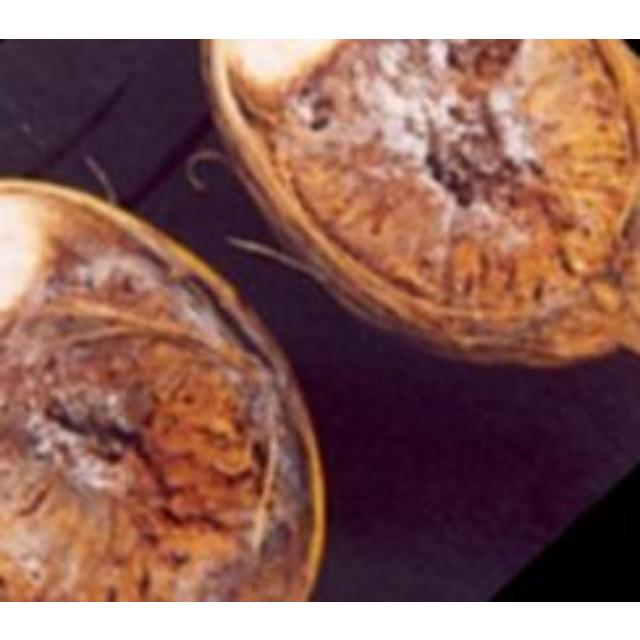damaged: (197, 38, 637, 371), (0, 177, 330, 599), (0, 177, 328, 599)
